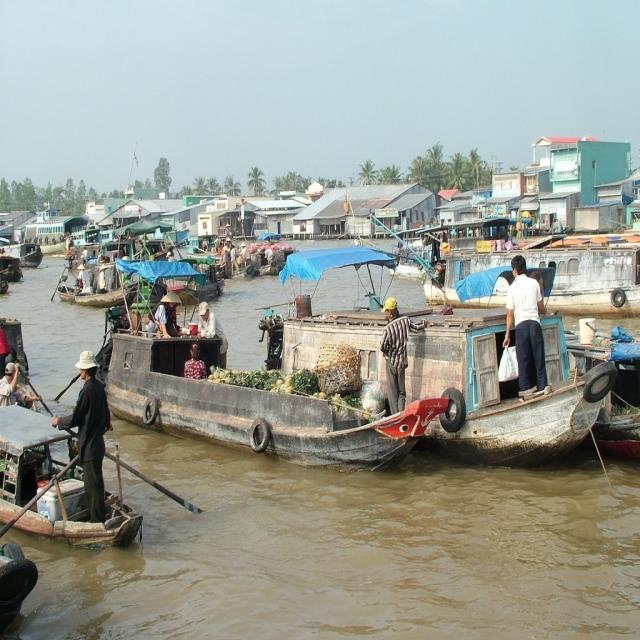boat: (100, 316, 451, 474), (428, 232, 640, 320), (49, 282, 155, 314)
